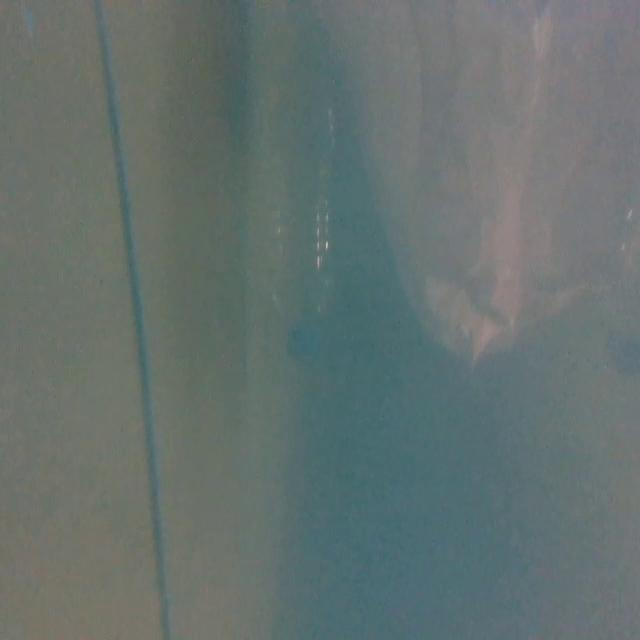plastic bags: (315, 4, 640, 355)
plastic bottle: (258, 76, 341, 362)
